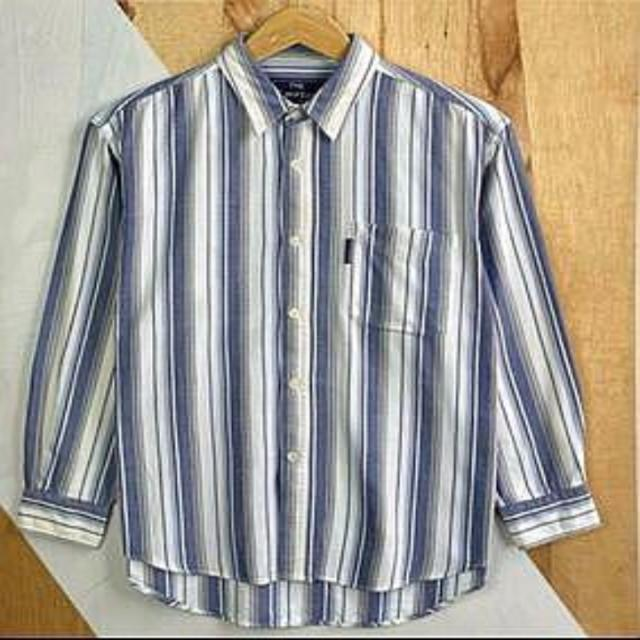SHIRT: (18, 11, 640, 634)
